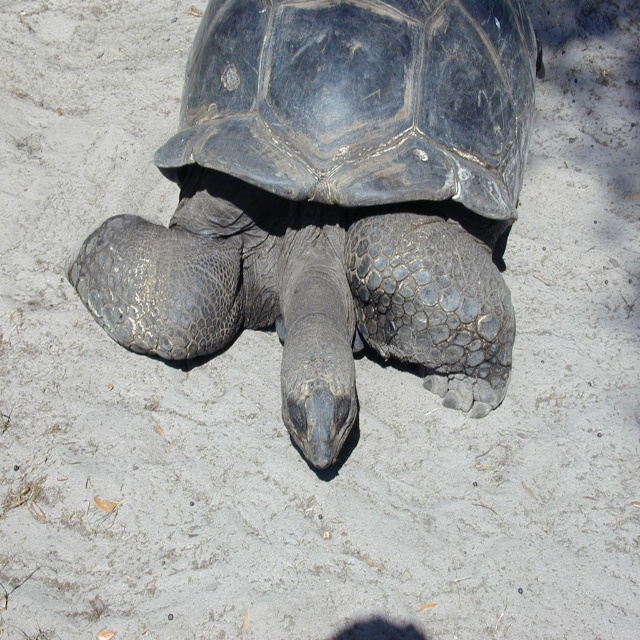Sea turtle: (67, 1, 546, 471)
